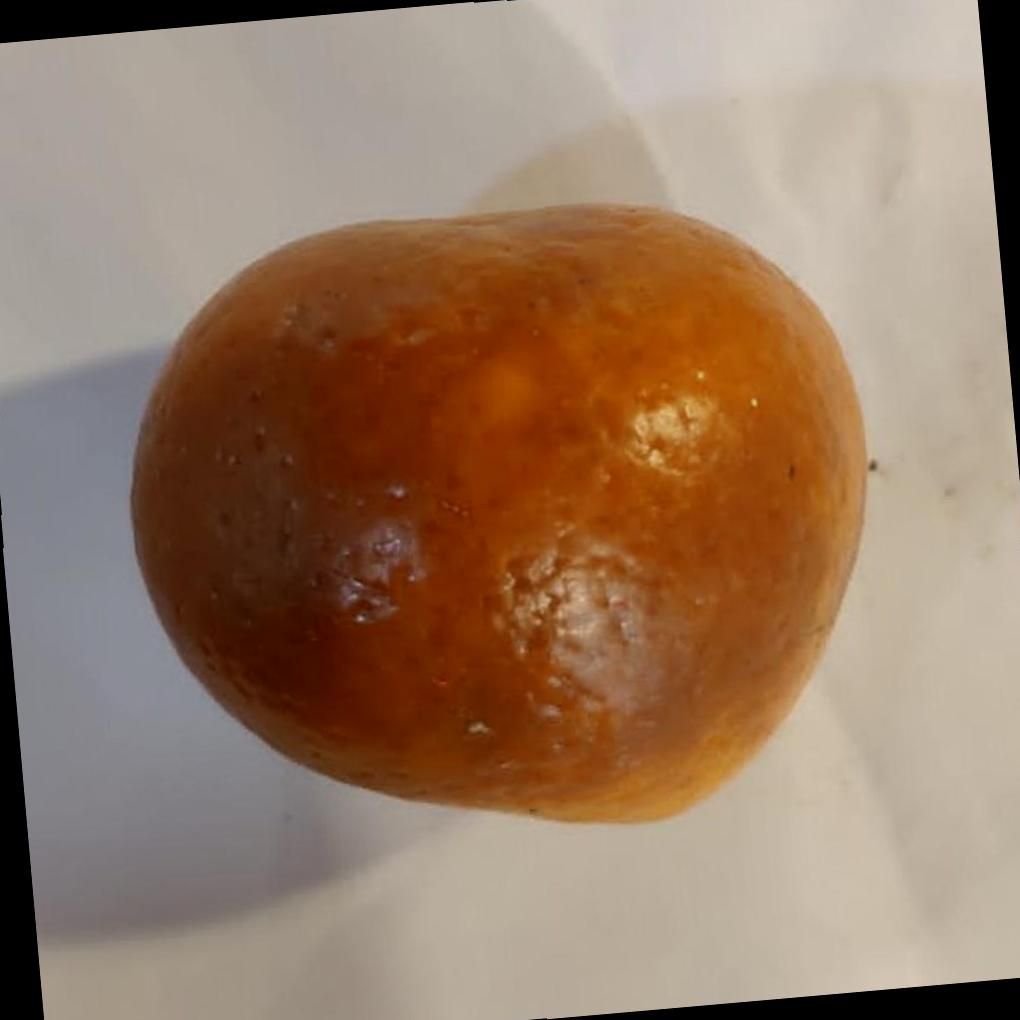FreshOrange: (123, 201, 868, 826)
